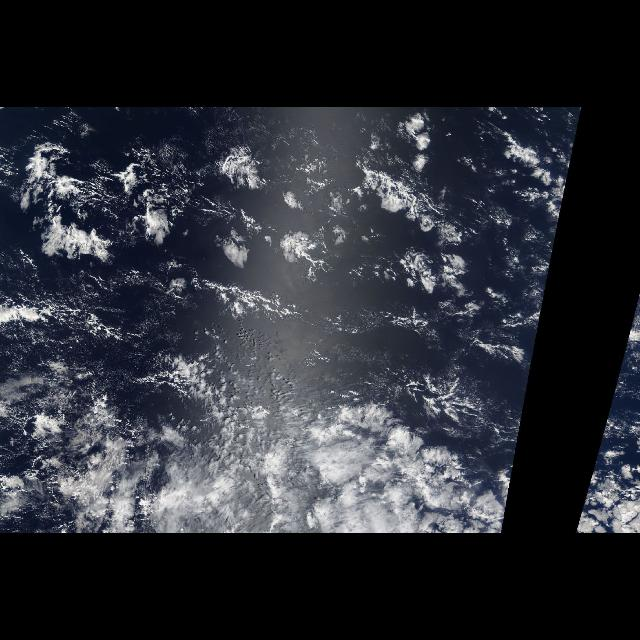Flower: (8, 114, 512, 296)
